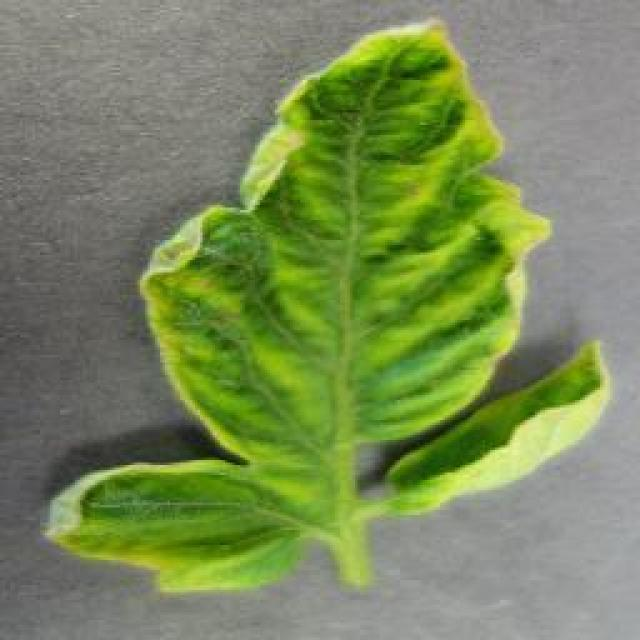Tomato yellow virus leaf: (38, 20, 540, 595), (386, 342, 614, 516)
